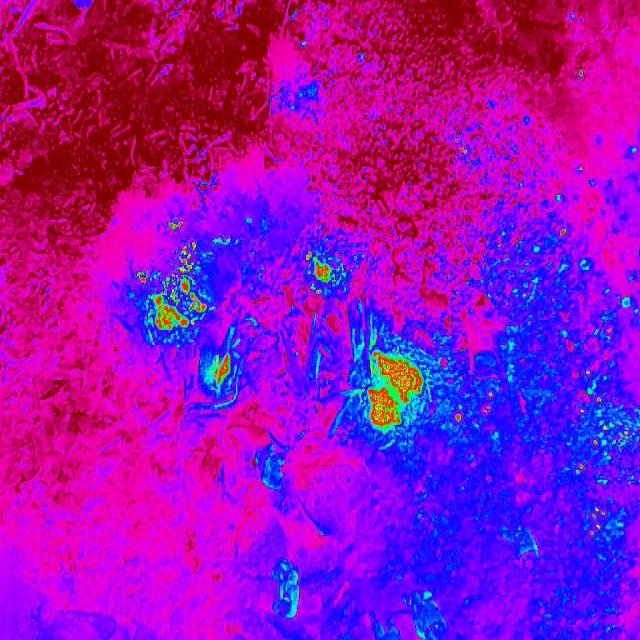fire: (544, 223, 640, 542), (140, 242, 208, 338), (359, 334, 423, 434), (302, 249, 350, 296), (250, 443, 294, 492), (204, 343, 236, 396), (451, 391, 498, 423), (164, 215, 188, 234), (576, 64, 590, 85)
